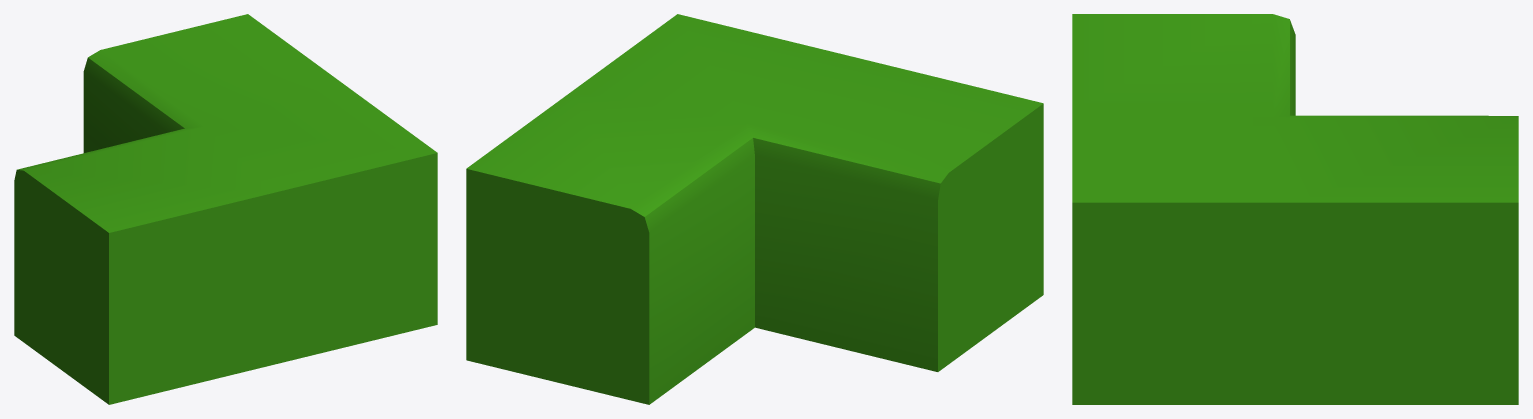
Rendered from Leftpathturn.fbx.
3 views of the same model, side by side, from view 1: azimuth 30°, elevation 25°; view 2: azimuth 150°, elevation 25°; view 3: azimuth 270°, elevation 25° (orthographic). The views are drawn at different scales.
Parts seen in each view (by area): view 1: Leftpathturn; view 2: Leftpathturn; view 3: Leftpathturn.
Boxes of the visible parts, box(x1,y1,x2,y2) form: Leftpathturn: box(14, 14, 437, 404); Leftpathturn: box(466, 14, 1043, 404); Leftpathturn: box(1072, 14, 1518, 404).
Bounding box in the file's own units: 79 × 39.5 × 79.
